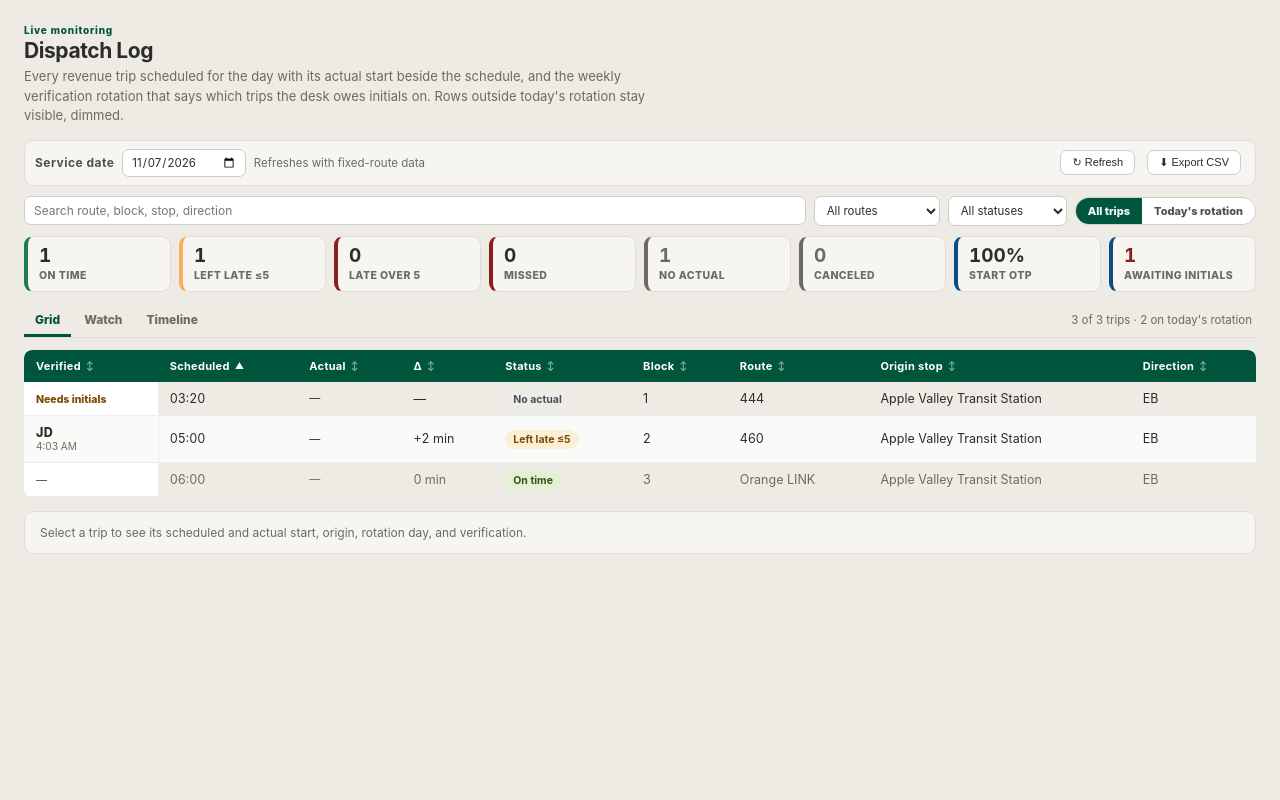
Test: Dispatch Log shell › carries a selection from the rows into the inspector
Expected: the text "Select a trip to see" is shown, [40,525,526,540]
Click the text "Orange LINK". click: click(798, 480)
box: [728,463,868,497]
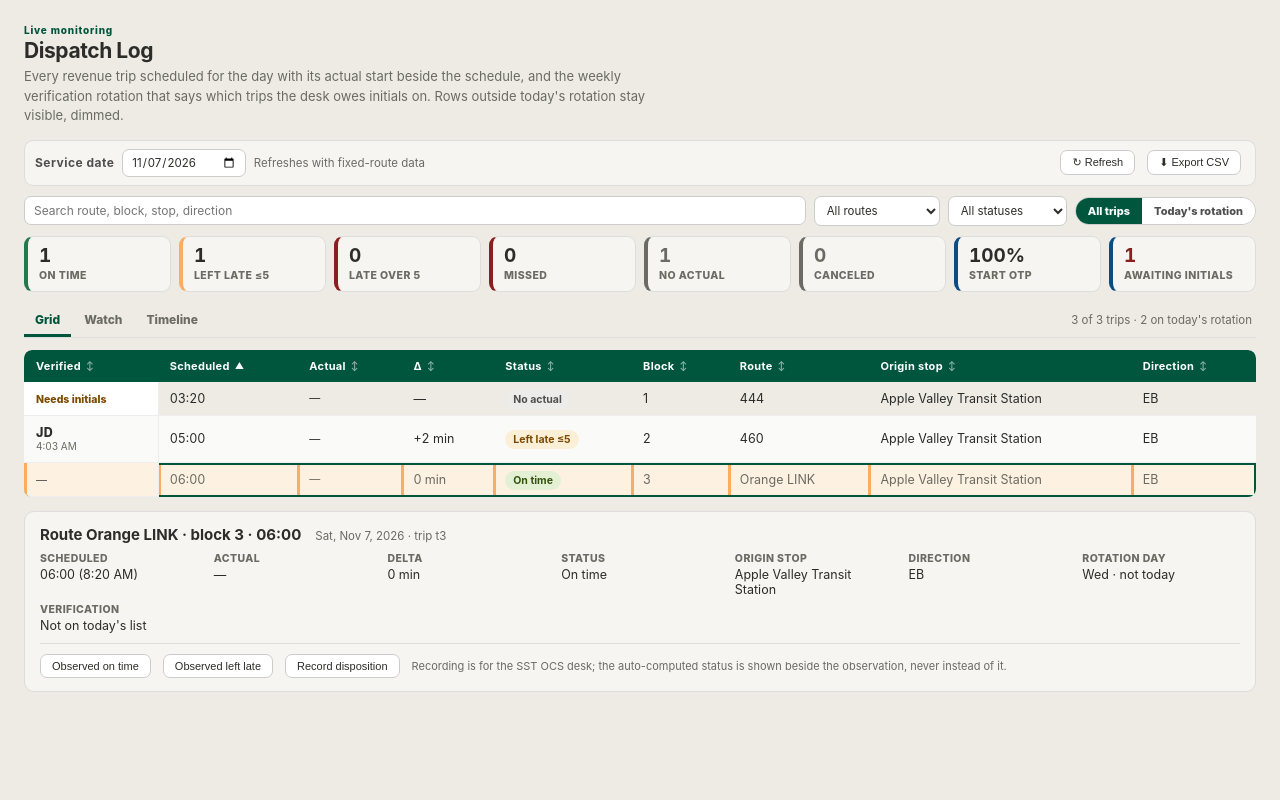
Expected: the element named "Trip details" shows "Route Orange LINK · block 3 · 06:00", [24,511,1256,692]
Expected: the element named "Trip details" shows "Wed", [1082,567,1109,582]
Expected: the element named "Trip details" shows "Not on today's list", [40,618,146,633]
// Switching view keeps the selection - it belongs to the module, not the view.
Click the tab "Timeline". click: click(172, 320)
box: [135,304,209,337]
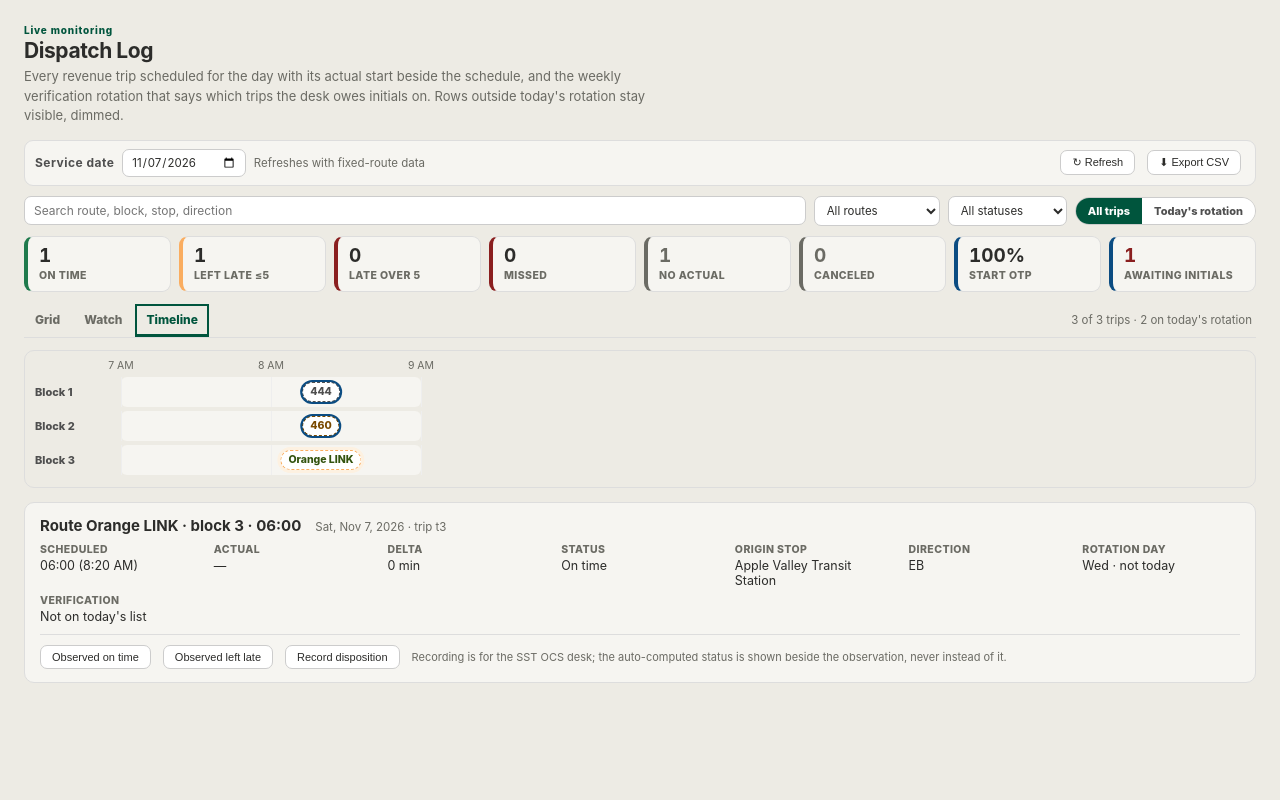
Expected: the element named "Trip details" shows "Orange LINK", [86,516,178,535]
Expected: the panel named "Timeline view" is shown, [24,350,1256,488]
